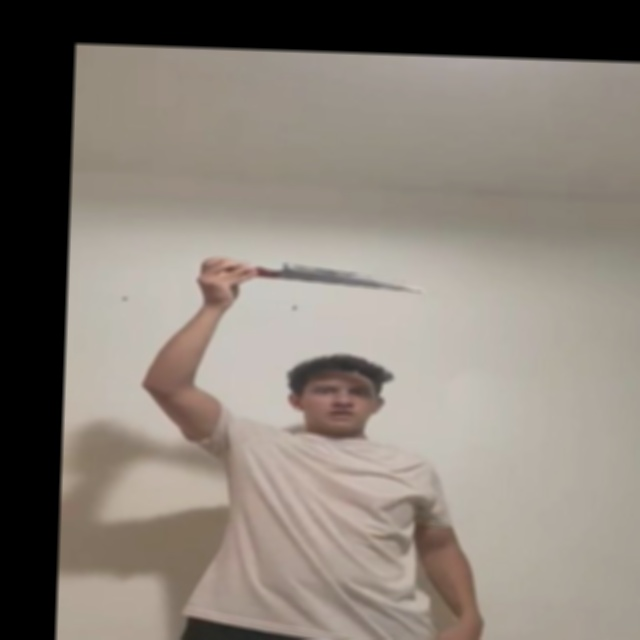Sharp-Object: (282, 262, 428, 295)
